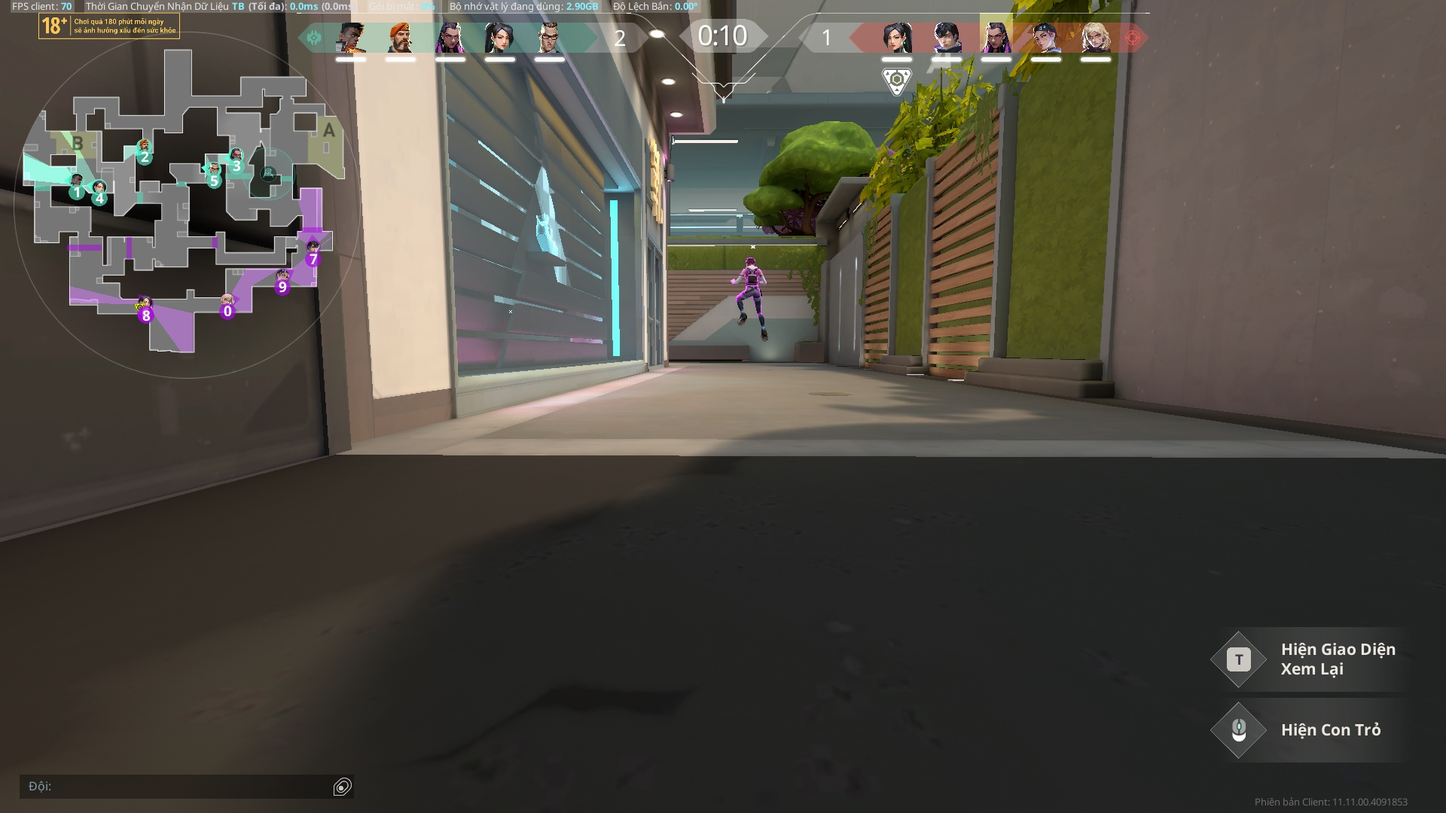body: (742, 266, 762, 290)
head: (744, 256, 755, 266)
